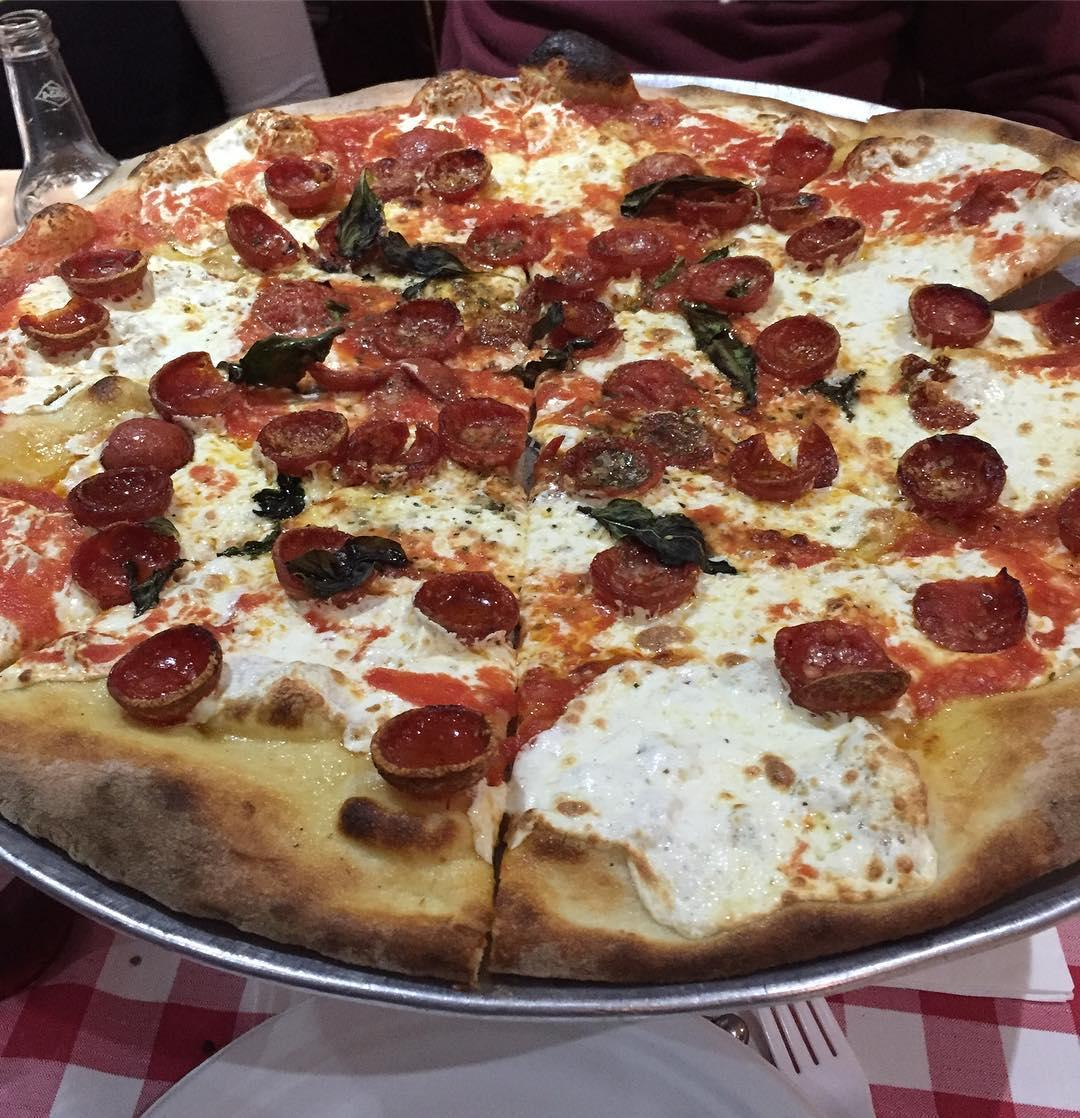Basil: (585, 481, 729, 576), (335, 193, 460, 280), (693, 315, 772, 402), (241, 329, 336, 390)
Cheese: (569, 657, 917, 888), (811, 265, 1070, 469), (27, 265, 237, 372)
Pepperoni: (257, 279, 456, 352), (775, 617, 892, 709), (111, 625, 218, 720), (603, 357, 706, 454), (633, 173, 764, 244), (919, 577, 1032, 648), (899, 435, 1000, 512), (379, 709, 490, 777), (79, 524, 174, 603), (725, 419, 825, 494), (427, 563, 520, 640), (907, 281, 993, 357), (497, 293, 612, 349), (273, 529, 366, 596), (589, 541, 693, 600), (371, 133, 473, 192), (63, 465, 164, 522), (353, 413, 438, 476), (453, 393, 528, 464), (217, 197, 288, 269), (157, 353, 232, 418), (259, 405, 340, 456), (265, 149, 340, 201), (481, 209, 557, 260), (691, 253, 764, 306), (113, 417, 185, 469), (761, 329, 832, 380), (793, 219, 861, 269), (19, 301, 98, 344), (59, 245, 130, 286), (601, 227, 674, 260)
Pizza: (0, 73, 1080, 985)
